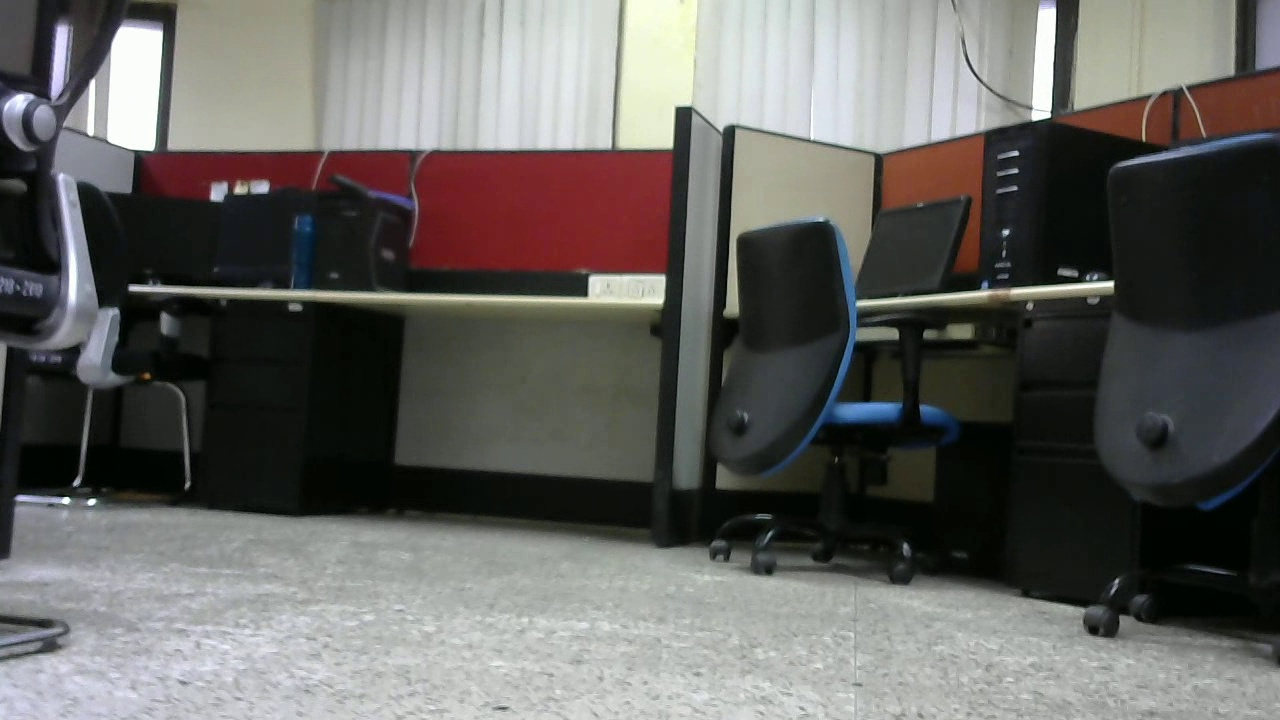chair: (691, 219, 965, 590)
